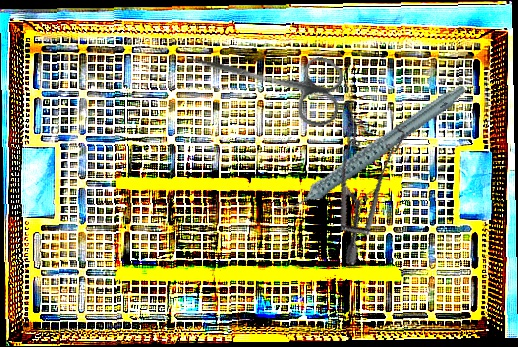Handpiece: (258, 82, 484, 216)
Iris Scissors: (181, 27, 349, 131)
Speculum: (308, 102, 439, 267)
